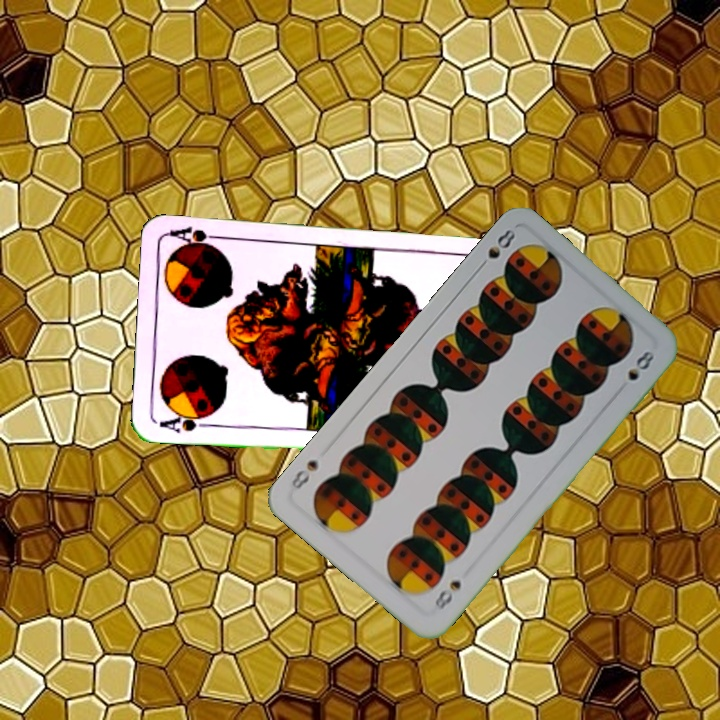S8: (473, 222, 519, 274), (430, 576, 464, 613)
SA: (155, 408, 215, 436)
